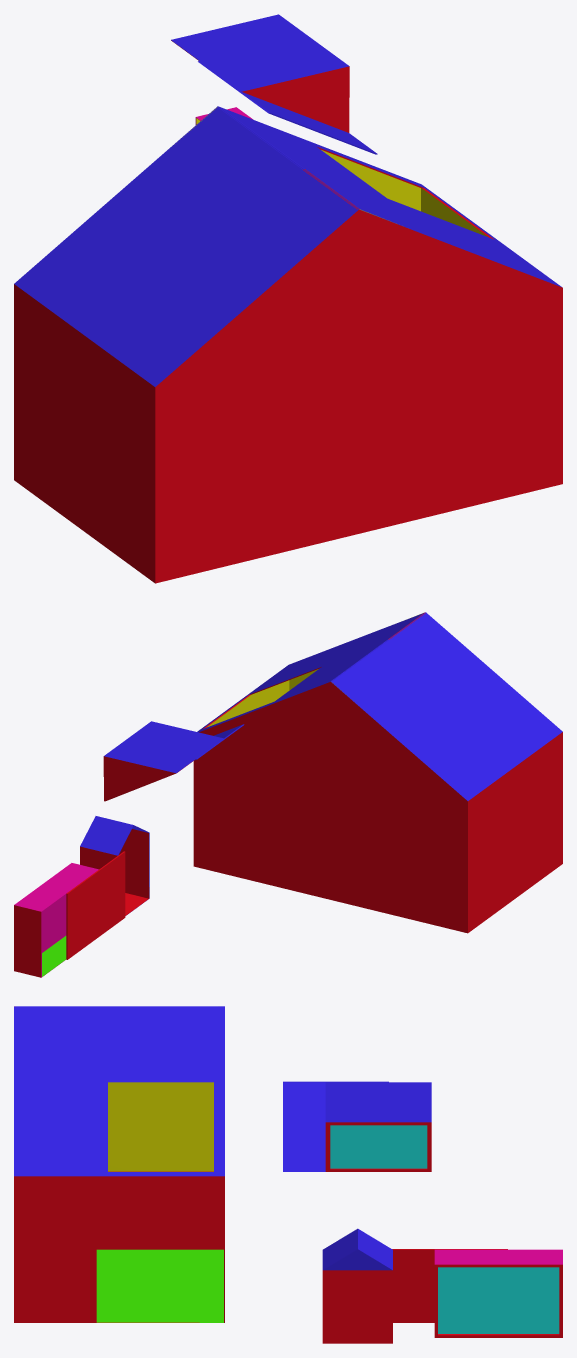
File: house parts Mat.fbx
3 views of the same model, one above another, from view 1: azimuth 30°, elevation 25°; view 2: azimuth 150°, elevation 25°; view 3: azimuth 270°, elevation 25° (orthographic). The views are drawn at different scales.
Visible parts, largest first — view 1: Plane.001, Plane.002, Plane.003; view 2: Plane.001, Plane.002, Plane.005, Plane.006, Plane.004; view 3: Plane.001, Plane.005, Plane.002, Plane.004, Plane.003, Plane.006.
Part boxes in pixels (x1,y1,x2,y2): Plane.001: (14, 106, 562, 583); Plane.002: (171, 14, 349, 132); Plane.003: (198, 61, 377, 154); Plane.001: (193, 612, 562, 933); Plane.002: (103, 721, 223, 801); Plane.005: (14, 863, 98, 977); Plane.006: (66, 851, 125, 959); Plane.004: (80, 816, 149, 915); Plane.001: (14, 1006, 224, 1322); Plane.005: (434, 1249, 562, 1337); Plane.002: (325, 1082, 431, 1171); Plane.004: (322, 1228, 392, 1343); Plane.003: (283, 1081, 388, 1171); Plane.006: (392, 1249, 507, 1322).
Size of the model in its own units: 1139 by 760 by 1560.
